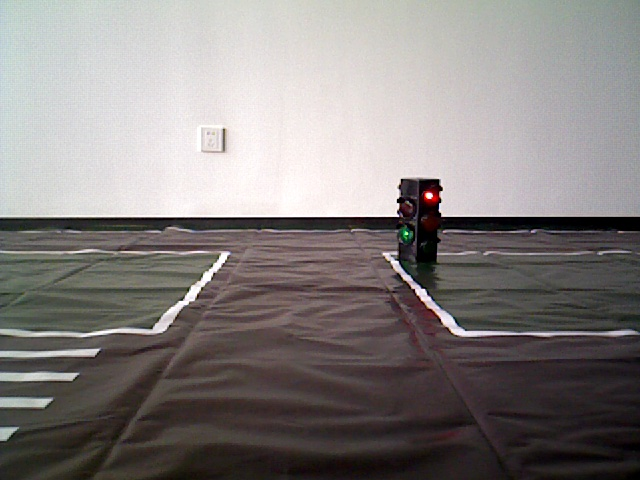red: (400, 177, 438, 264)
